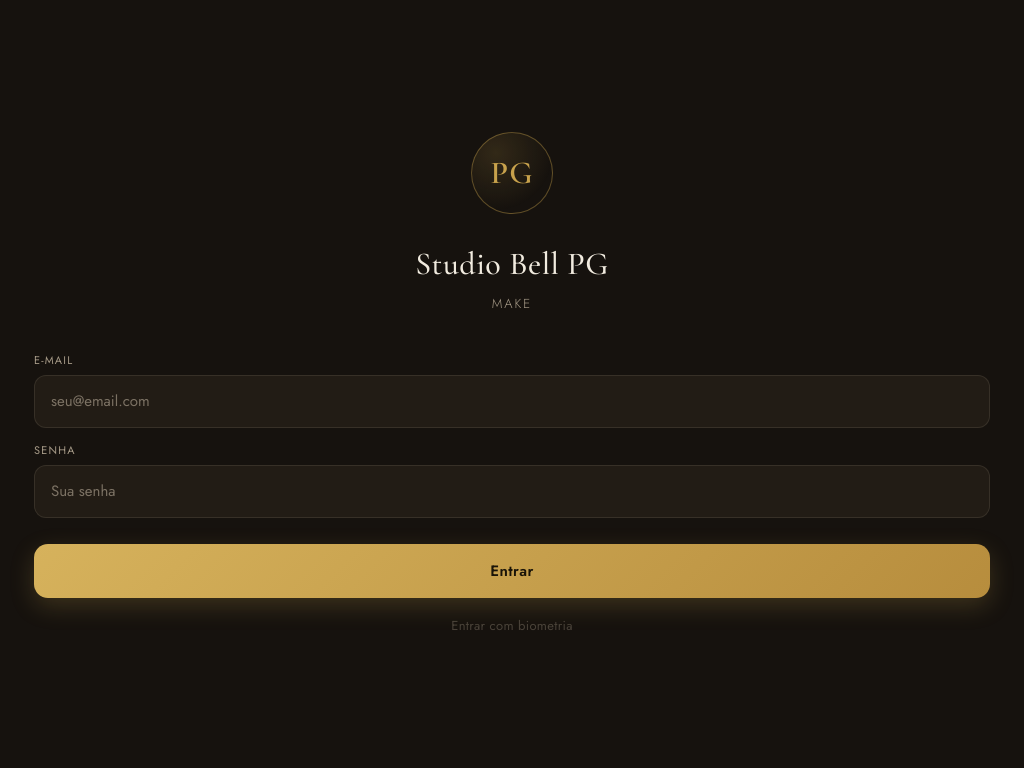
LoginPage › should show error message on signIn failure
In the field with placeholder "seu@email.com": (512, 402) [34, 375, 990, 428], type "test@test.com"
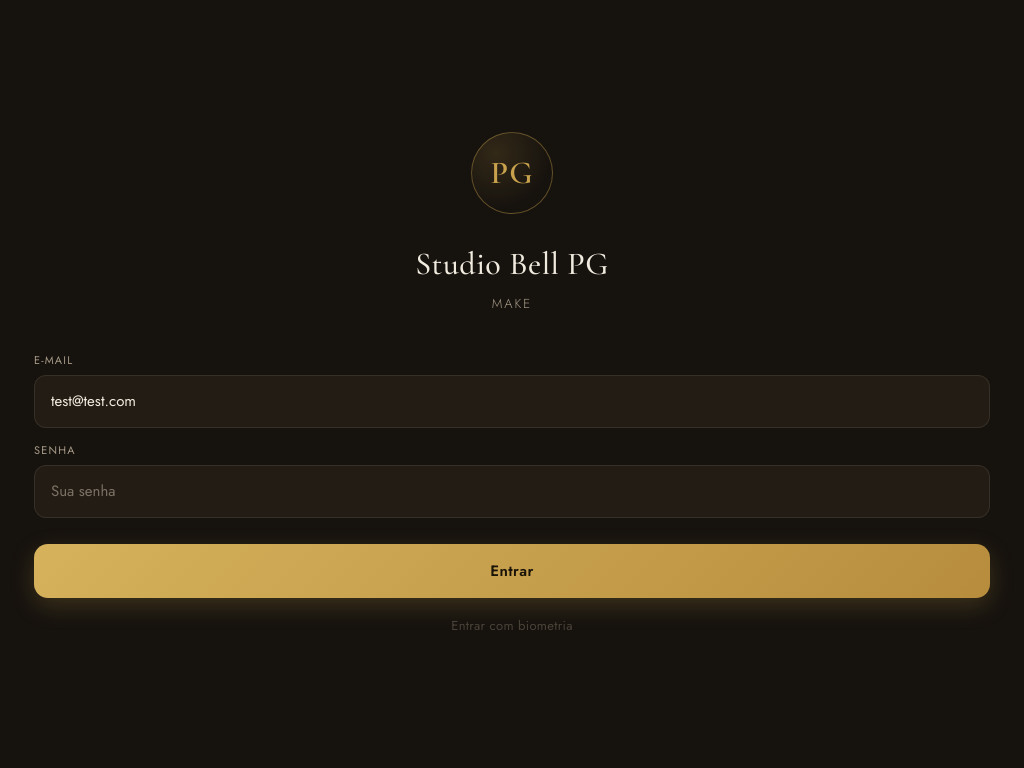
In the password field with placeholder "Sua senha": (512, 492) [34, 465, 990, 518], type "wrong"
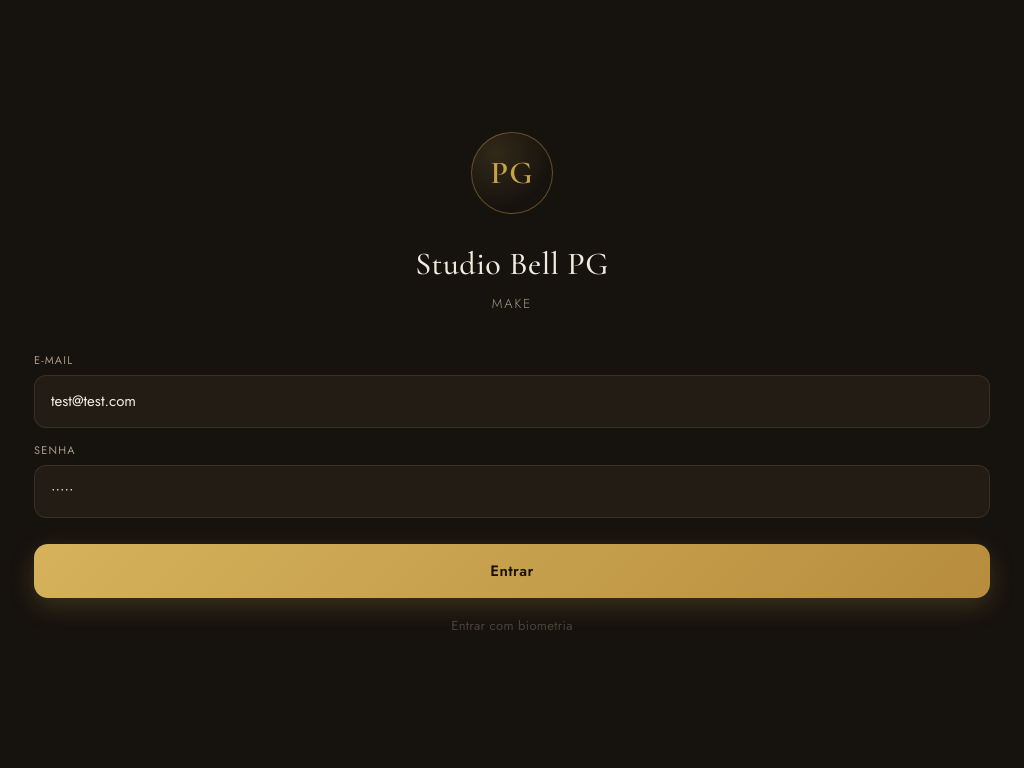
Click the button "Entrar": (512, 571) [34, 544, 990, 598]
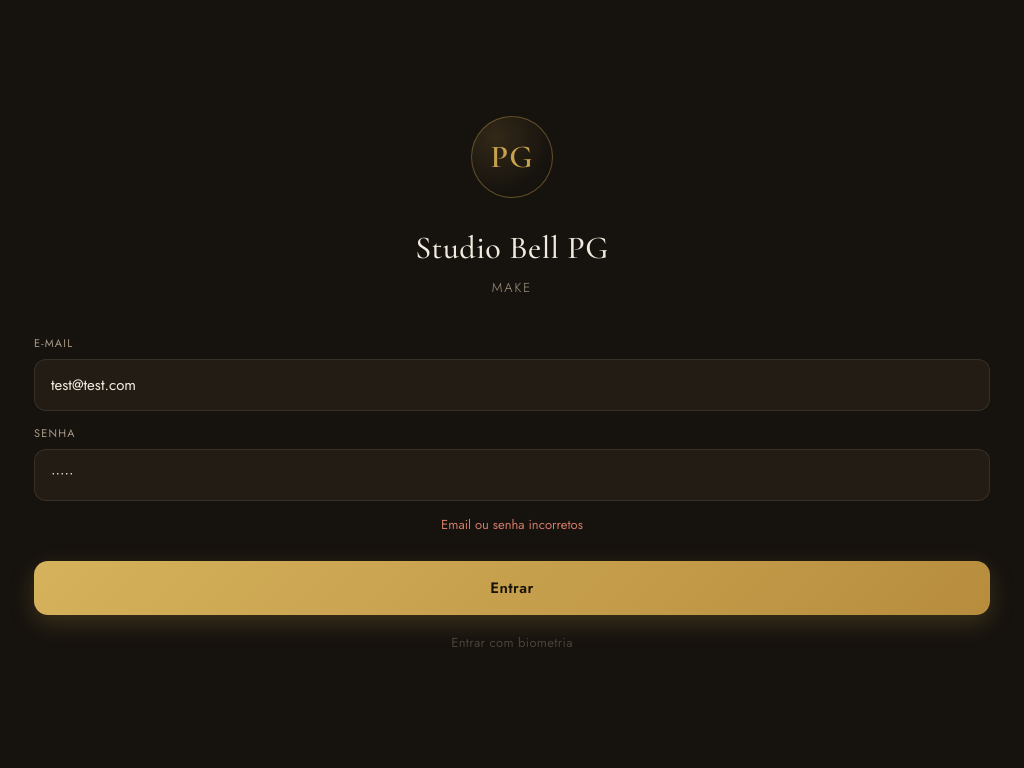
expect the text "Email ou senha incorretos" is shown: met, box [441, 515, 583, 534]
